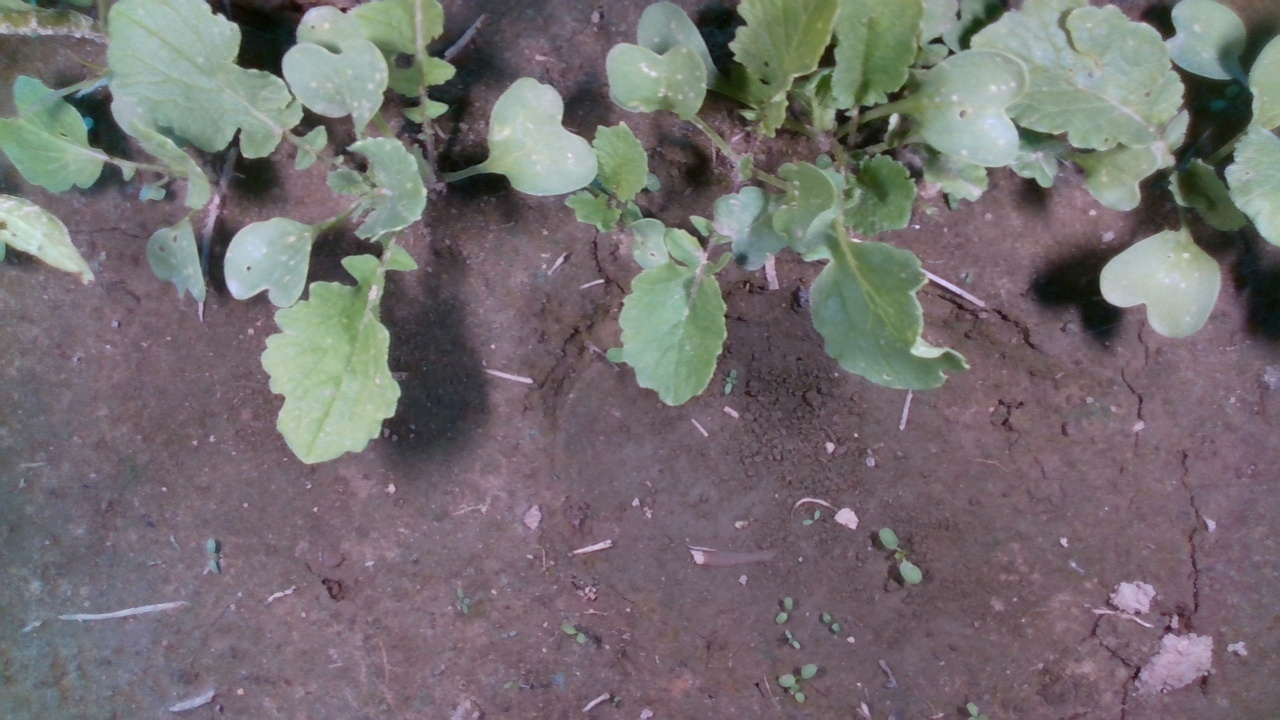weed: (877, 526, 924, 586), (204, 536, 222, 576), (773, 593, 794, 625), (560, 622, 587, 645), (454, 586, 471, 615), (821, 610, 841, 634), (723, 368, 737, 395), (800, 509, 821, 527), (500, 628, 517, 639)
